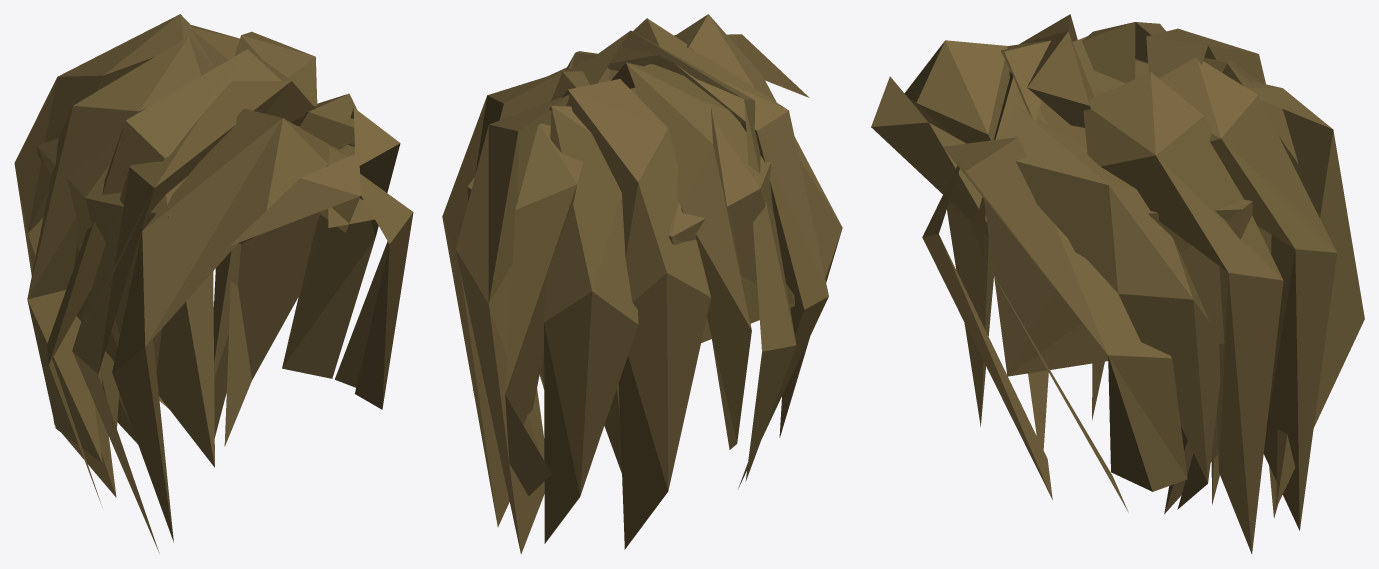
Rendered from hair-bob.low.c57a22cd.glb.
The picture shows the model from 3 angles, left to right: view 1: azimuth 30°, elevation 25°; view 2: azimuth 150°, elevation 25°; view 3: azimuth 270°, elevation 25°; orthographic projection. The views are drawn at different scales.
Parts seen in each view (by area): view 1: hair-bob; view 2: hair-bob; view 3: hair-bob.
Boxes of the visible parts, x1,y1,x2,y2 form: hair-bob: (14,14,413,552); hair-bob: (442,14,842,554); hair-bob: (871,14,1364,553).
Bounding box in the file's own units: 0.2311 × 0.3199 × 0.2827.
